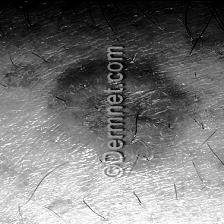Unclassified: (34, 41, 102, 191), (131, 39, 201, 172)
